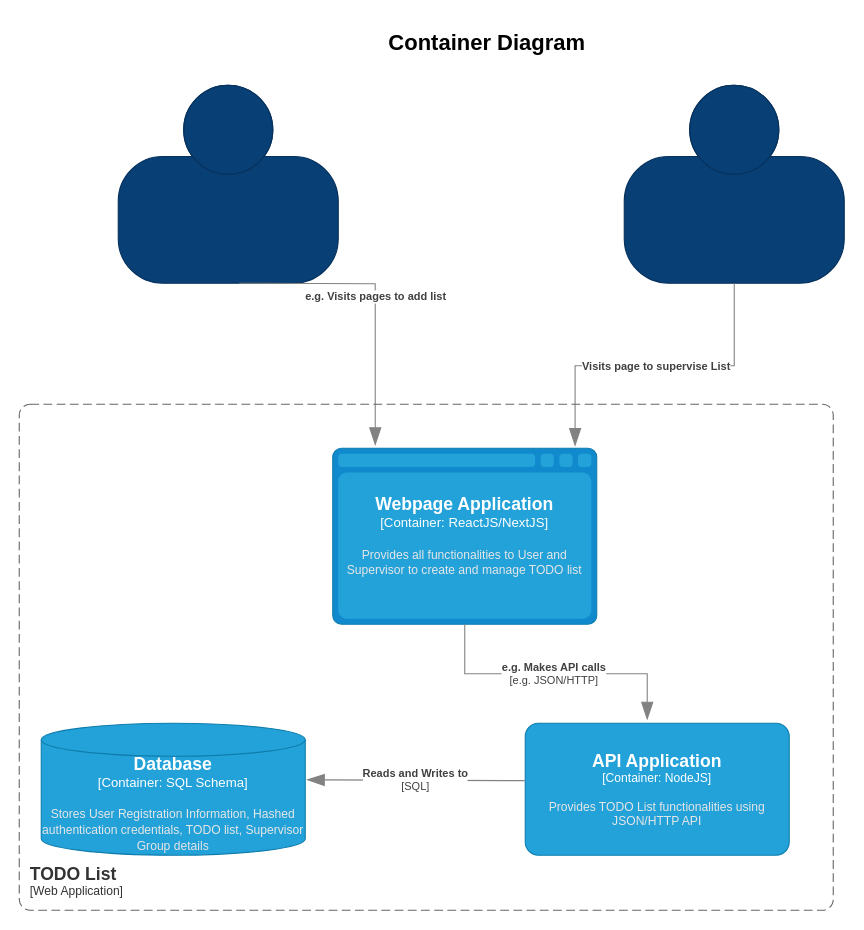
Image size: 864x930. Some labels were removed from this diagram. Here are the shapes that lost their labels. From the top down, the centre of each, then its label:
the point at 227,183: User [Person] User who can create and make changes in TODO List
the point at 733,183: Supervisor [Person] Can be anyone who is supervising group of list
